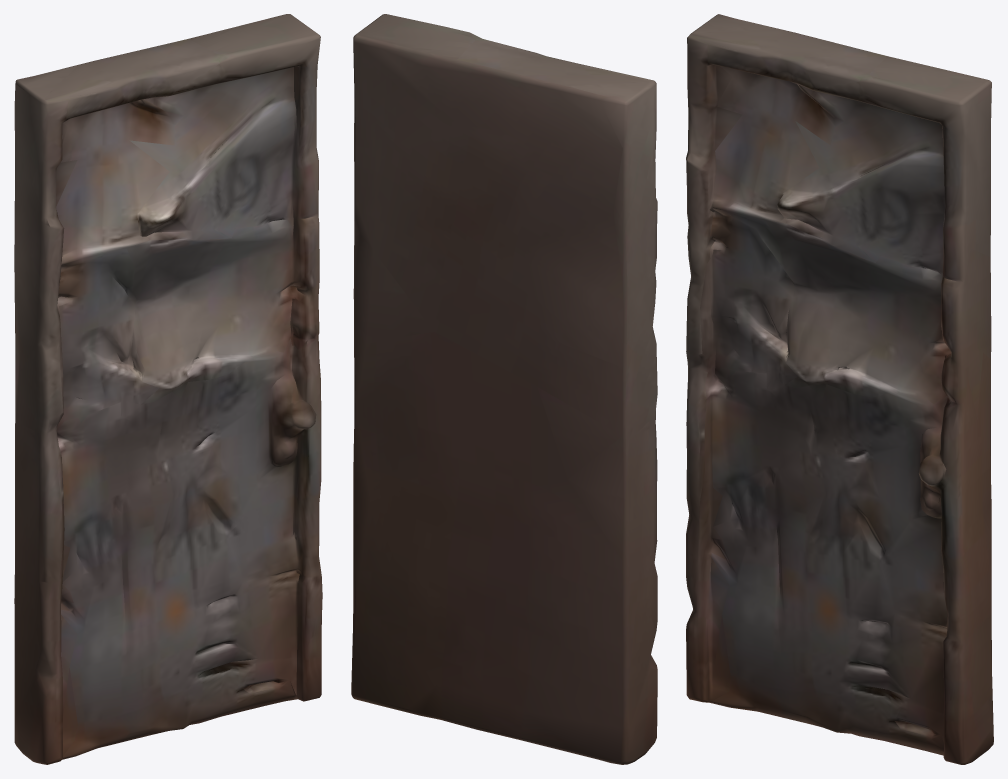
The model's file is door_3.glb.
3 views of the same model, side by side, from view 1: azimuth 30°, elevation 25°; view 2: azimuth 150°, elevation 25°; view 3: azimuth 330°, elevation 25° (orthographic).
Visible parts, largest first — view 1: door; view 2: door; view 3: door.
Part boxes in pixels (x1,y1,x2,y2): door: (14,14,322,764); door: (351,14,657,764); door: (686,14,993,764).
Bounding box in the file's own units: 0.913 × 2.1 × 0.2437.
1 material, 1 textured.
